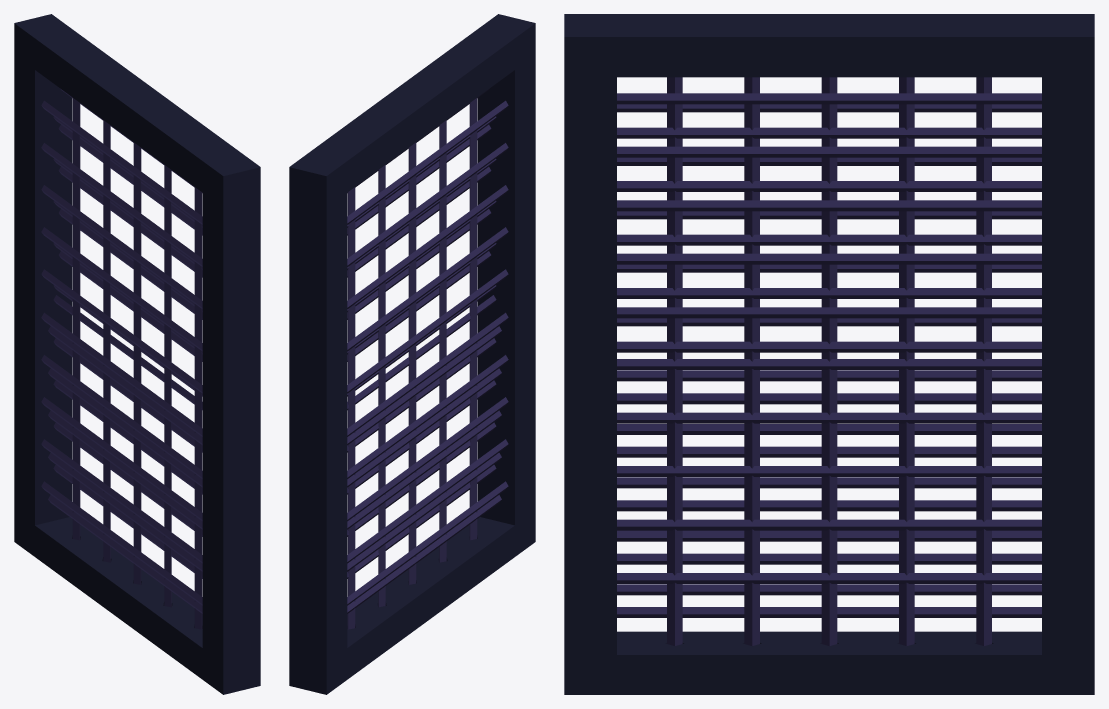
The model's file is c_bars.glb.
3 views of the same model, side by side, from view 1: azimuth 30°, elevation 25°; view 2: azimuth 150°, elevation 25°; view 3: azimuth 270°, elevation 25° (orthographic). The views are drawn at different scales.
Parts seen in each view (by area): view 1: C_BarsBase, C_Bars1, C_Bars9, C_Bars6, C_Bars7, C_Bars8, C_Bars4, C_Bars5; view 2: C_BarsBase, C_Bars1, C_Bars9, C_Bars6, C_Bars7, C_Bars8, C_Bars4, C_Bars5; view 3: C_BarsBase, C_Bars1, C_Bars4, C_Bars5, C_Bars8, C_Bars9, C_Bars7, C_Bars6.
Boxes of the visible parts, <box> form: C_BarsBase: <box>14,14,260,694</box>; C_Bars1: <box>72,98,202,629</box>; C_Bars9: <box>41,312,202,605</box>; C_Bars6: <box>41,100,202,393</box>; C_Bars7: <box>48,326,202,613</box>; C_Bars8: <box>53,295,202,578</box>; C_Bars4: <box>58,88,202,361</box>; C_Bars5: <box>53,116,202,396</box>; C_BarsBase: <box>289,14,535,694</box>; C_Bars1: <box>347,98,477,629</box>; C_Bars9: <box>347,312,508,605</box>; C_Bars6: <box>347,100,508,393</box>; C_Bars7: <box>347,326,501,613</box>; C_Bars8: <box>347,295,496,578</box>; C_Bars4: <box>347,88,491,361</box>; C_Bars5: <box>347,116,496,396</box>; C_BarsBase: <box>564,14,1094,694</box>; C_Bars1: <box>667,77,991,645</box>; C_Bars4: <box>617,93,1041,318</box>; C_Bars5: <box>617,127,1041,352</box>; C_Bars8: <box>617,359,1041,583</box>; C_Bars9: <box>617,370,1041,595</box>; C_Bars7: <box>617,393,1041,617</box>; C_Bars6: <box>617,104,1041,326</box>.
Bounding box in the file's own units: 0.1413 × 1.87 × 1.37.
1 material, 1 textured.
